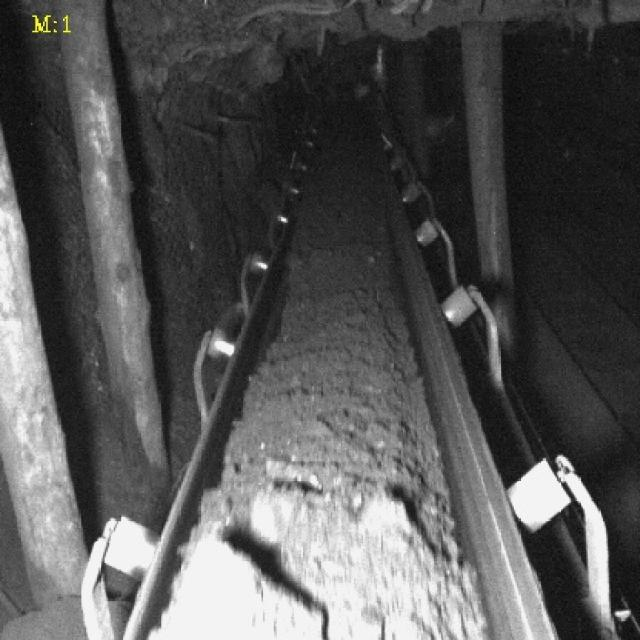large_sized_coal: (180, 541, 323, 640)
